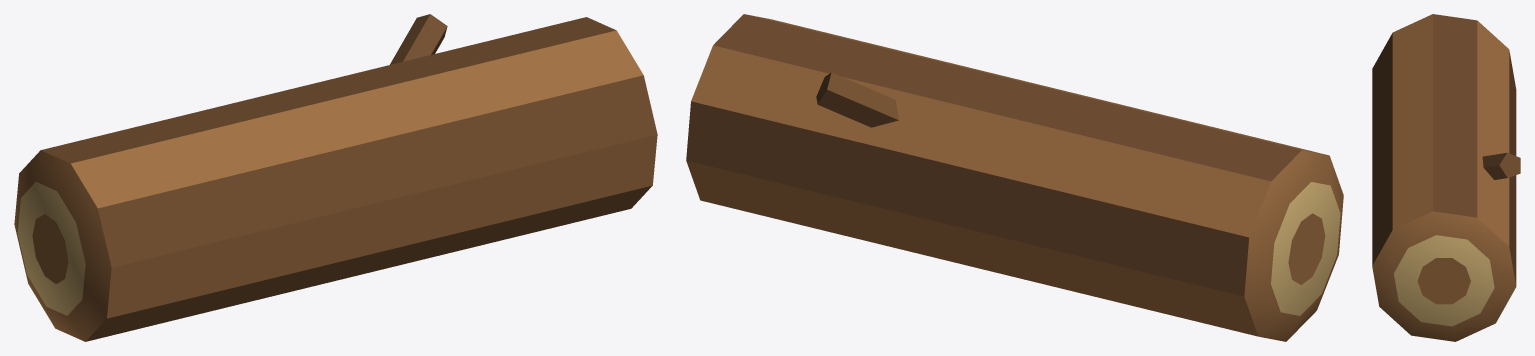
File: Tronco.fbx
3 views of the same model, side by side, from view 1: azimuth 30°, elevation 25°; view 2: azimuth 150°, elevation 25°; view 3: azimuth 270°, elevation 25° (orthographic). The views are drawn at different scales.
Visible parts, largest first — view 1: Tronco; view 2: Tronco; view 3: Tronco.
Boxes of the visible parts, x1=… form: Tronco: x1=14, y1=14, x2=657, y2=341; Tronco: x1=686, y1=14, x2=1343, y2=341; Tronco: x1=1372, y1=14, x2=1520, y2=341.
Bounding box in the file's own units: 4.02 × 1.27 × 1.22.
Materials: 1 (1 with a texture image).
